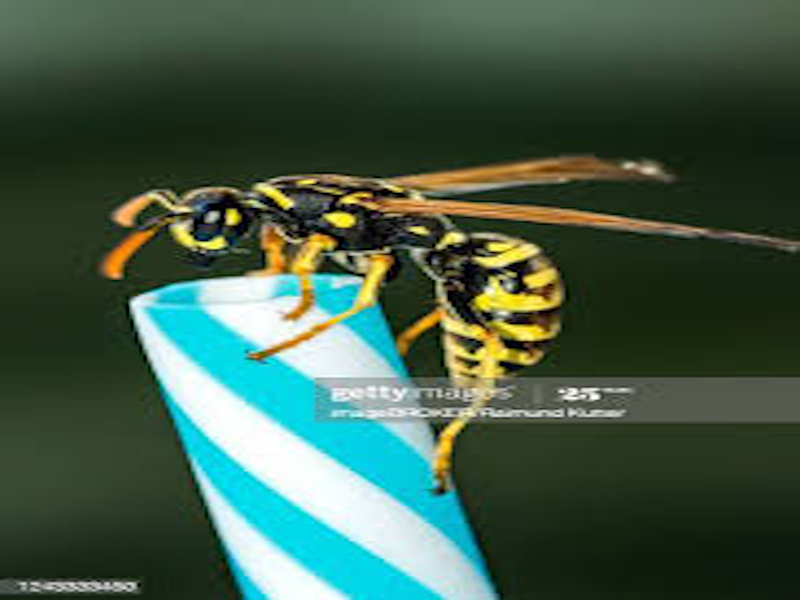chax: (105, 80, 750, 458)
